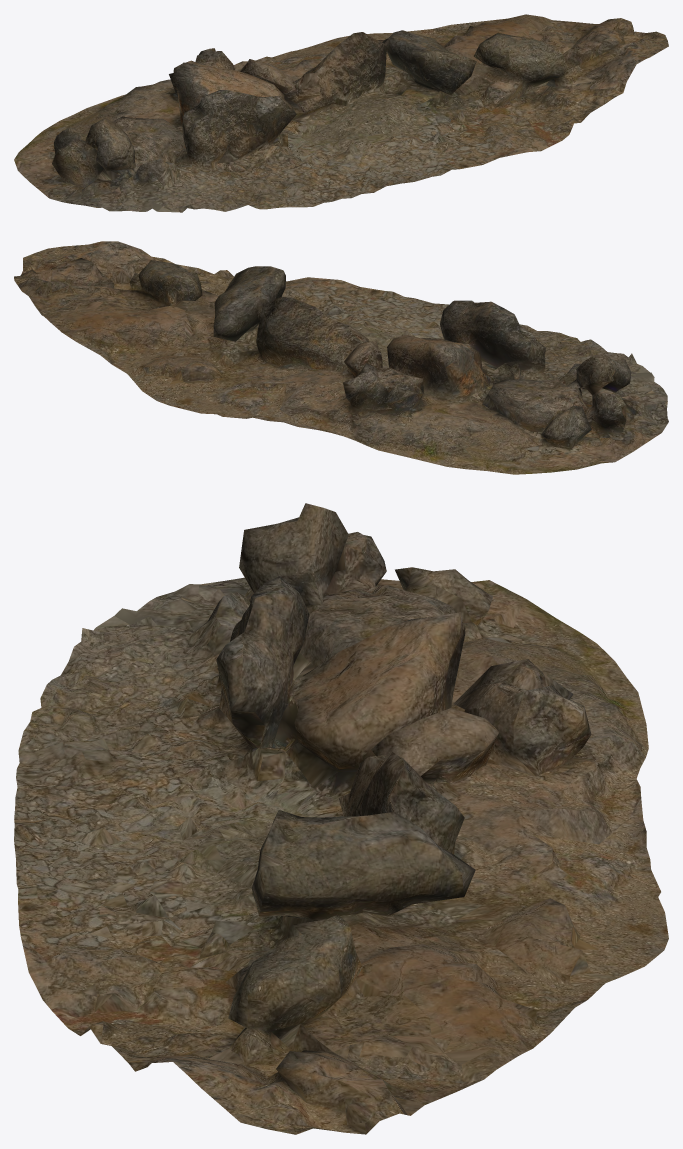
The model's file is coast_land_rocks_02.fbx.
3 renders of one model, top to bottom at view 1: azimuth 30°, elevation 25°; view 2: azimuth 150°, elevation 25°; view 3: azimuth 270°, elevation 25°, orthographic. The views are drawn at different scales.
Parts seen in each view (by area): view 1: coast_land_rocks_02_LOD0.001; view 2: coast_land_rocks_02_LOD0.001; view 3: coast_land_rocks_02_LOD0.001.
Part boxes in pixels (box(x1,y1,x2,y2)): coast_land_rocks_02_LOD0.001: box(14, 14, 668, 212); coast_land_rocks_02_LOD0.001: box(14, 241, 668, 474); coast_land_rocks_02_LOD0.001: box(14, 503, 668, 1134).
Size of what is drawn, in the model's own units: 1045 by 134 by 488.
1 material, 1 textured.
